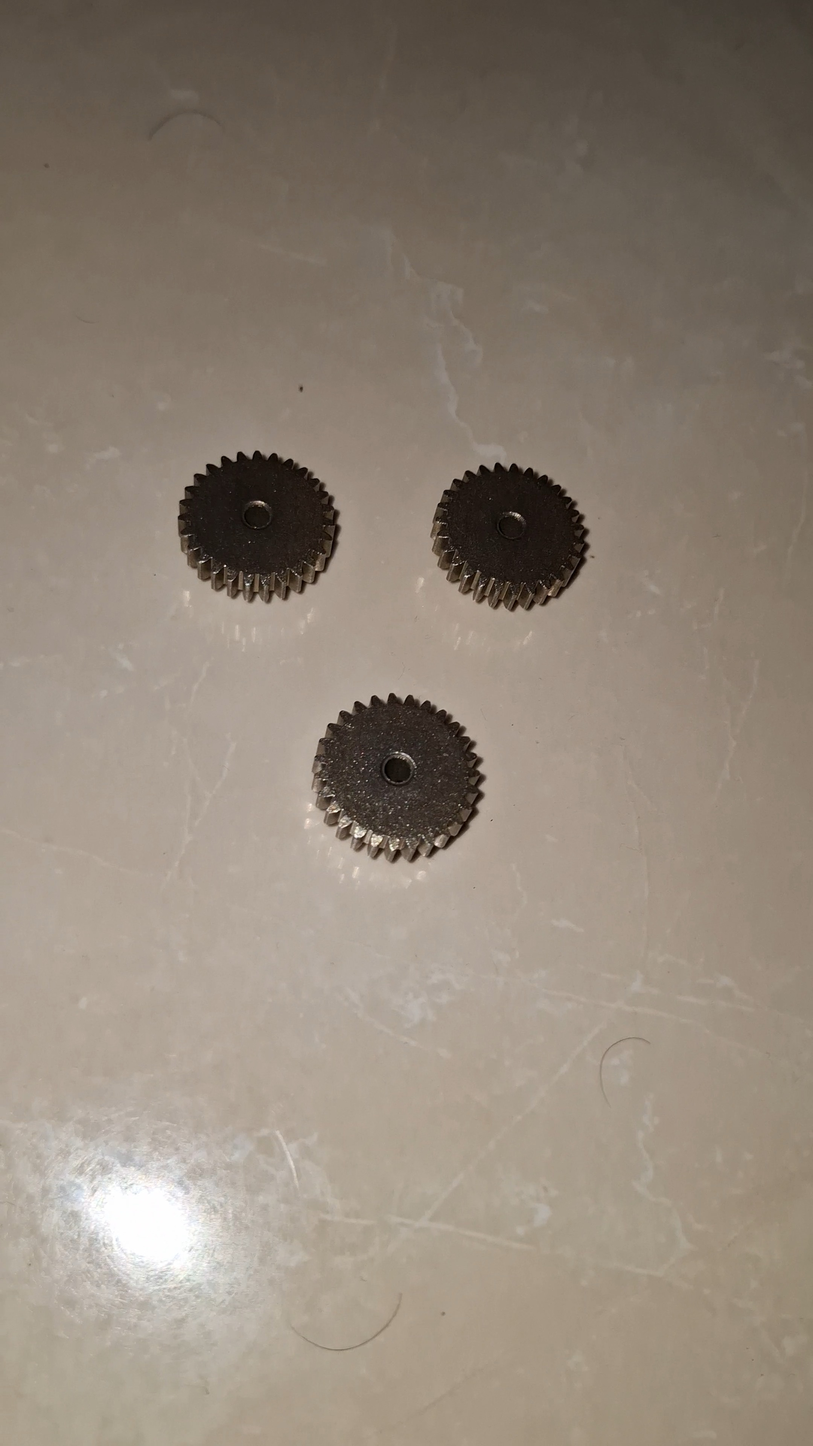spur gear: (314, 694, 480, 859), (179, 451, 334, 601), (432, 464, 585, 609)
